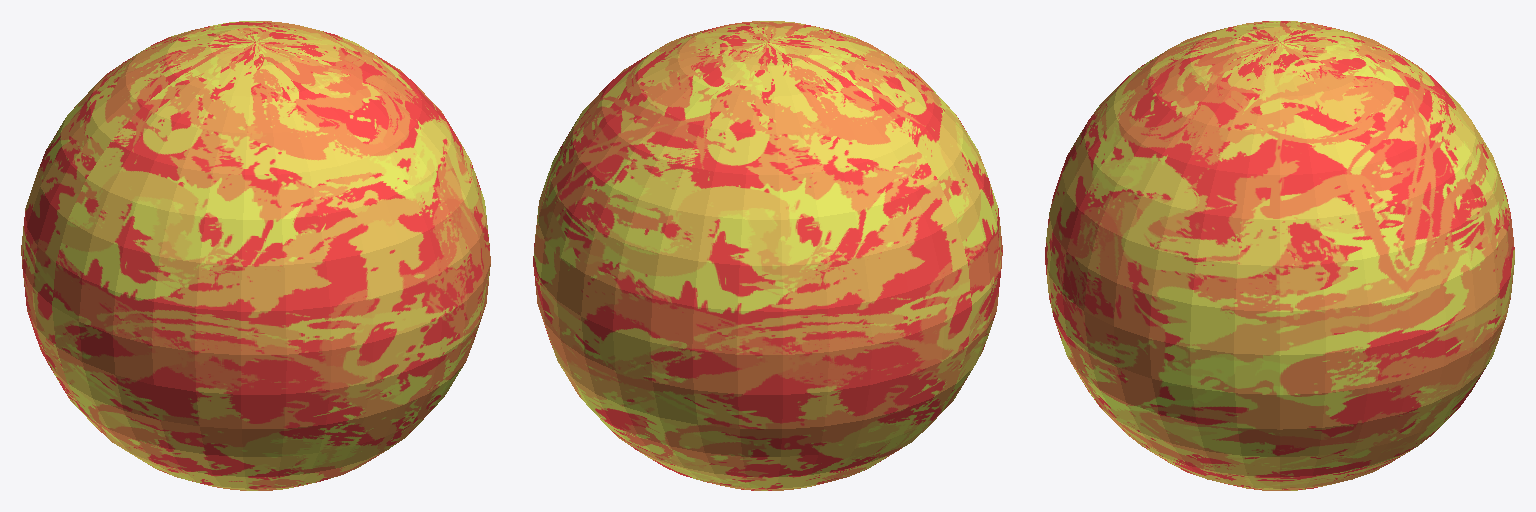
3 views of the same model, side by side, from view 1: azimuth 30°, elevation 25°; view 2: azimuth 150°, elevation 25°; view 3: azimuth 270°, elevation 25° (orthographic).
Visible parts, largest first — view 1: 球; view 2: 球; view 3: 球.
Boxes of the visible parts, x1,y1,x2,y2 form: 球: [21, 21, 490, 490]; 球: [533, 21, 1002, 490]; 球: [1045, 21, 1514, 490].
Bounding box in the file's own units: 2 × 2 × 2.
1 materials, 1 textured.